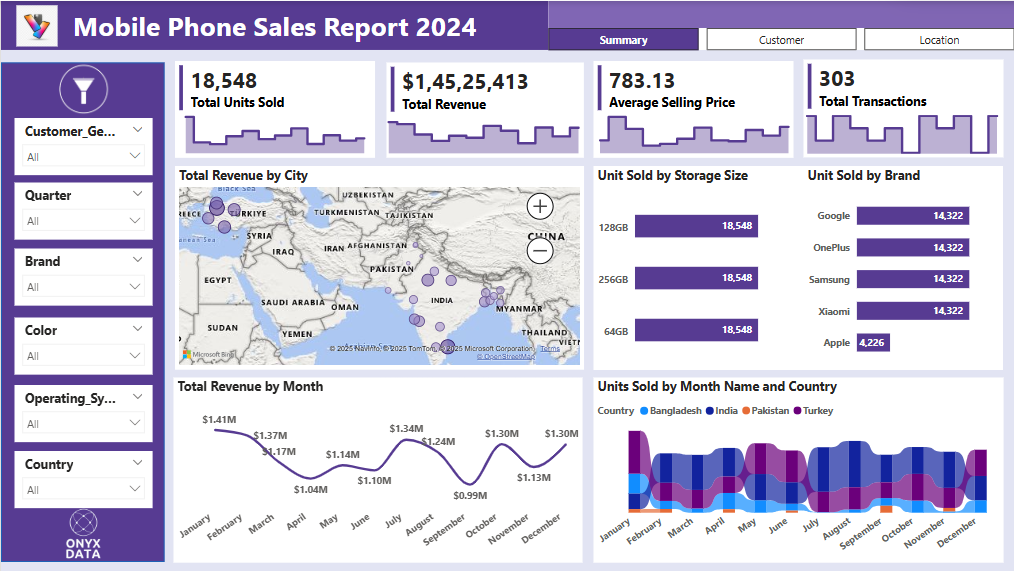

This screenshot's page, from the dashboard's own definition file:
{"tool":"powerbi","page":{"name":"Summary","canvas":[1280,720],"ordinal":0},"visuals":[{"type":"shape","box":[0,77.5,206,629.3],"z":0},{"type":"shape","box":[746.5,207.9,515.9,257],"z":1000},{"type":"multiRowCard","fields":{"Values":["Fact_Sales.Total Transactions"]},"box":[1011.7,73.3,251.7,123.3],"z":2000},{"type":"multiRowCard","fields":{"Values":["Fact_Sales.Average Selling Price"]},"box":[746.7,75,251.7,121.7],"z":3000},{"type":"multiRowCard","fields":{"Values":["Fact_Sales.Total Revenue"]},"box":[485,76.7,248.3,120],"z":4000},{"type":"multiRowCard","fields":{"Values":["Fact_Sales.Units Sold"]},"box":[218.3,75,251.7,121.7],"z":5000},{"type":"ribbonChart","fields":{"Category":["Date.Month Name"],"Series":["Dim_Locations.Country"],"Y":["Fact_Sales.Units Sold"]},"box":[746.7,475,516.7,233.3],"z":6000},{"type":"lineChart","fields":{"Y":["Fact_Sales.Total Revenue"],"Category":["Date.Month Name"]},"box":[475,126.7,266.7,70],"z":7000},{"type":"lineChart","fields":{"Category":["Date.Month Name"],"Y":["Fact_Sales.Units Sold"]},"box":[218.3,128.3,251.7,68.3],"z":8000},{"type":"lineChart","fields":{"Category":["Date.Month Name"],"Y":["Fact_Sales.Average Selling Price"]},"box":[740,128.3,265,68.3],"z":9000},{"type":"lineChart","fields":{"Category":["Date.Month Name"],"Y":["Fact_Sales.Total Transactions"]},"box":[1001.7,130,266.7,66.7],"z":10000},{"type":"shape","box":[0,0,690,61.7],"z":11000},{"type":"shape","box":[690,0,590,61.7],"z":12000},{"type":"barChart","title":"Unit Sold by Brand","fields":{"Y":["Sum(Fact_Sales.Units_Sold)"],"Category":["Dim_Products.Brand"]},"box":[1011.7,208.3,251.7,256.7],"z":13000},{"type":"barChart","title":"Unit Sold by Storage Size","fields":{"Y":["Sum(Fact_Sales.Units_Sold)"],"Category":["Dim_Products.Storage_Size"]},"box":[746.7,208.3,251.7,256.7],"z":14000},{"type":"map","fields":{"Category":["Dim_Locations.City","Dim_Locations.Country"],"Size":["Fact_Sales.Total Revenue"]},"box":[218.3,208.3,515,256.7],"z":15000},{"type":"lineChart","title":"Total Revenue by Month ","fields":{"Y":["Fact_Sales.Total Revenue"],"Category":["Date.Month Name"]},"box":[216.7,475,515,233.3],"z":16000},{"type":"slicer","fields":{"Values":["Fact_Sales.Customer_Gender"]},"box":[17,147.4,173.9,71.8],"z":17000},{"type":"shape","box":[689.8,0,589.6,34],"z":18000},{"type":"pageNavigator","box":[689.8,34,589.6,28.3],"z":19000},{"type":"image","box":[0,0,90.7,62.4],"z":20000},{"type":"slicer","fields":{"Values":["Date.Quarter"]},"box":[17,228.7,173.9,71.8],"z":21000},{"type":"slicer","fields":{"Values":["Fact_Sales.Brand"]},"box":[17,311.8,173.9,71.8],"z":22000},{"type":"slicer","fields":{"Values":["Dim_Products.Color"]},"box":[17,398.7,173.9,71.8],"z":23000},{"type":"slicer","fields":{"Values":["Dim_Locations.Country"]},"box":[17,566.9,173.9,71.8],"z":24000},{"type":"slicer","fields":{"Values":["Dim_Products.Operating_System"]},"box":[17,483.8,173.9,71.8],"z":25000},{"type":"image","box":[60.5,69.9,86.9,86.9],"z":26000},{"type":"image","box":[47.2,621.7,113.4,98.3],"z":27000}]}

Visuals, with their boxes in screenshot pixels (x1, y1, x2, y2), scaled from the page's 1280x720 canvas onto the 1014x571 screenshot:
shape: (0,61,163,561)
shape: (591,165,1000,369)
multiRowCard - Fact_Sales.Total Transactions: (801,58,1001,156)
multiRowCard - Fact_Sales.Average Selling Price: (592,59,791,156)
multiRowCard - Fact_Sales.Total Revenue: (384,61,581,156)
multiRowCard - Fact_Sales.Units Sold: (173,59,372,156)
ribbonChart - Date.Month Name x Dim_Locations.Country: (592,377,1001,562)
lineChart - Fact_Sales.Total Revenue x Date.Month Name: (376,100,588,156)
lineChart - Date.Month Name x Fact_Sales.Units Sold: (173,102,372,156)
lineChart - Date.Month Name x Fact_Sales.Average Selling Price: (586,102,796,156)
lineChart - Date.Month Name x Fact_Sales.Total Transactions: (794,103,1005,156)
shape: (0,0,547,49)
shape: (547,0,1013,49)
"Unit Sold by Brand" barChart: (801,165,1001,369)
"Unit Sold by Storage Size" barChart: (592,165,791,369)
map - Dim_Locations.City x Dim_Locations.Country: (173,165,581,369)
"Total Revenue by Month " lineChart: (172,377,580,562)
slicer - Fact_Sales.Customer_Gender: (13,117,151,174)
shape: (546,0,1013,27)
pageNavigator: (546,27,1013,49)
image: (0,0,72,49)
slicer - Date.Quarter: (13,181,151,238)
slicer - Fact_Sales.Brand: (13,247,151,304)
slicer - Dim_Products.Color: (13,316,151,373)
slicer - Dim_Locations.Country: (13,450,151,507)
slicer - Dim_Products.Operating_System: (13,384,151,441)
image: (48,55,117,124)
image: (37,493,127,570)
